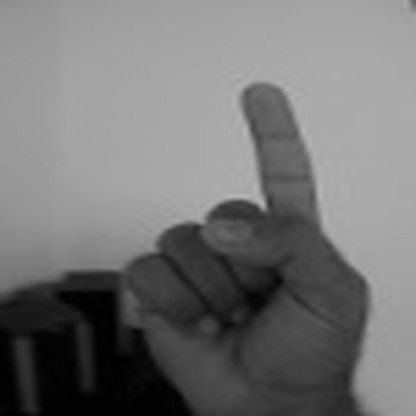d: (123, 76, 379, 411)
